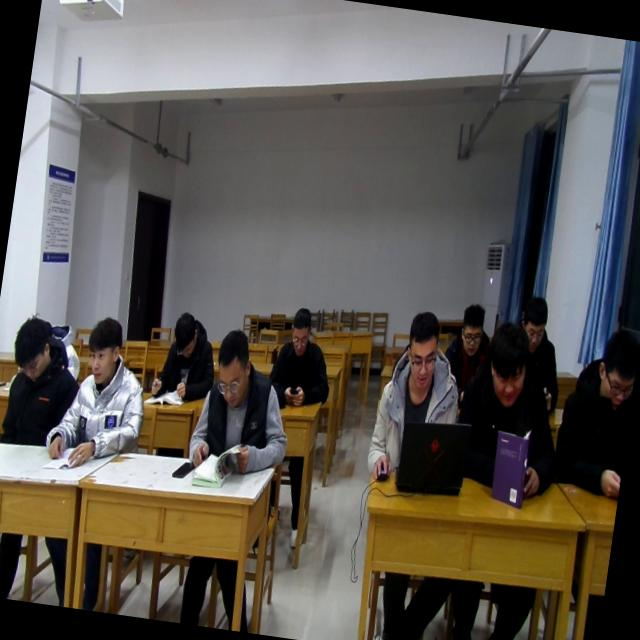down: (479, 317, 537, 415), (396, 306, 451, 398), (208, 325, 258, 412), (80, 308, 128, 392), (8, 311, 56, 384), (516, 289, 554, 354), (454, 296, 490, 362), (168, 310, 202, 364), (285, 304, 315, 359)
sit: (447, 316, 575, 503), (363, 304, 471, 494), (42, 308, 156, 478), (184, 327, 302, 490), (551, 326, 640, 491), (0, 312, 80, 450), (265, 300, 342, 410), (500, 286, 572, 398), (148, 307, 220, 399), (446, 306, 496, 410)
